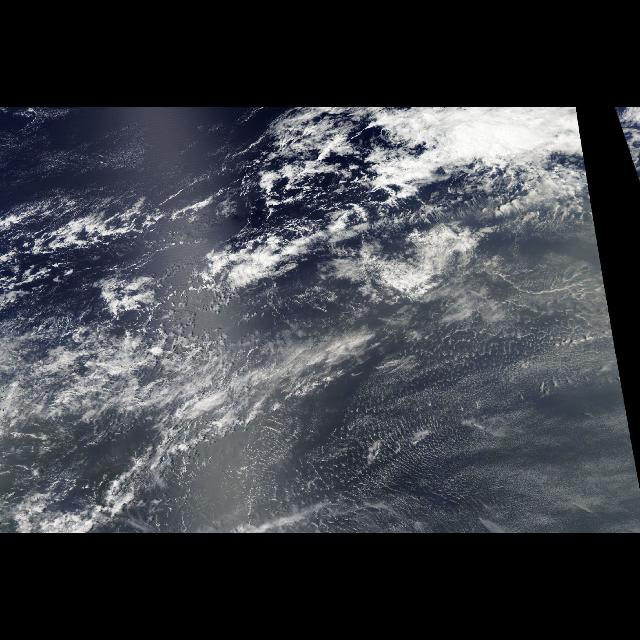Sugar: (235, 281, 640, 533), (0, 108, 234, 210)
